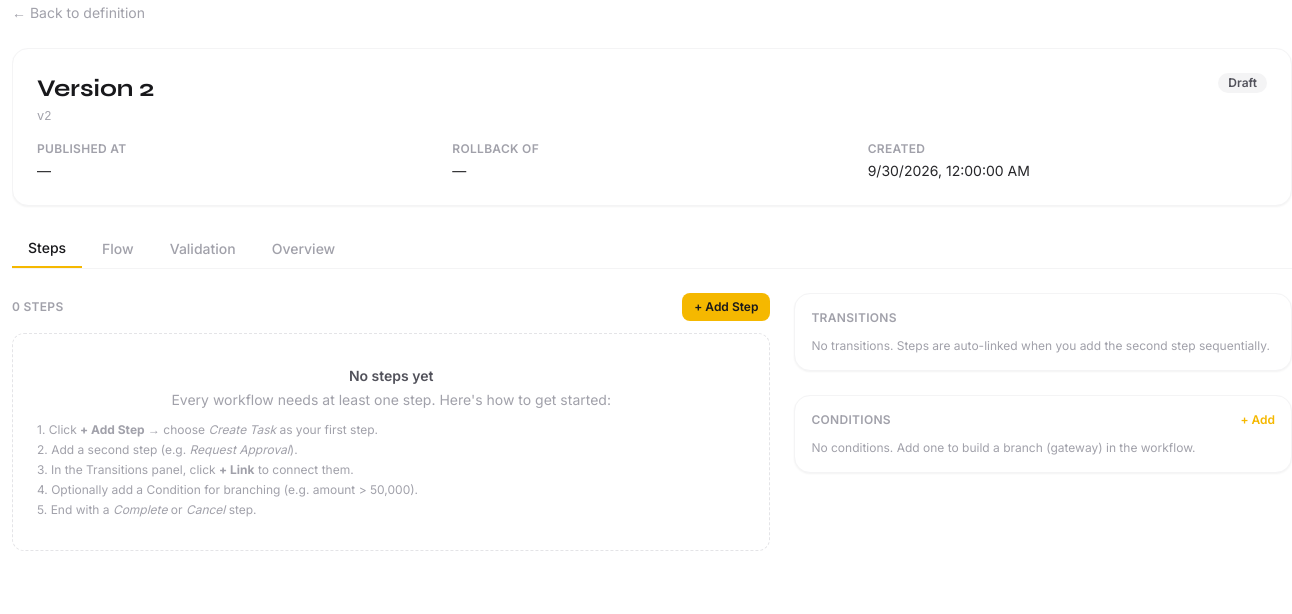
WorkflowVersionDetailPage › shows validation tab and run validation button for draft version
Expected: the heading "Version 2" is shown, [37,73,154,105]
Click the button "validation" at x=203, y=249, box [154,230,252,268]
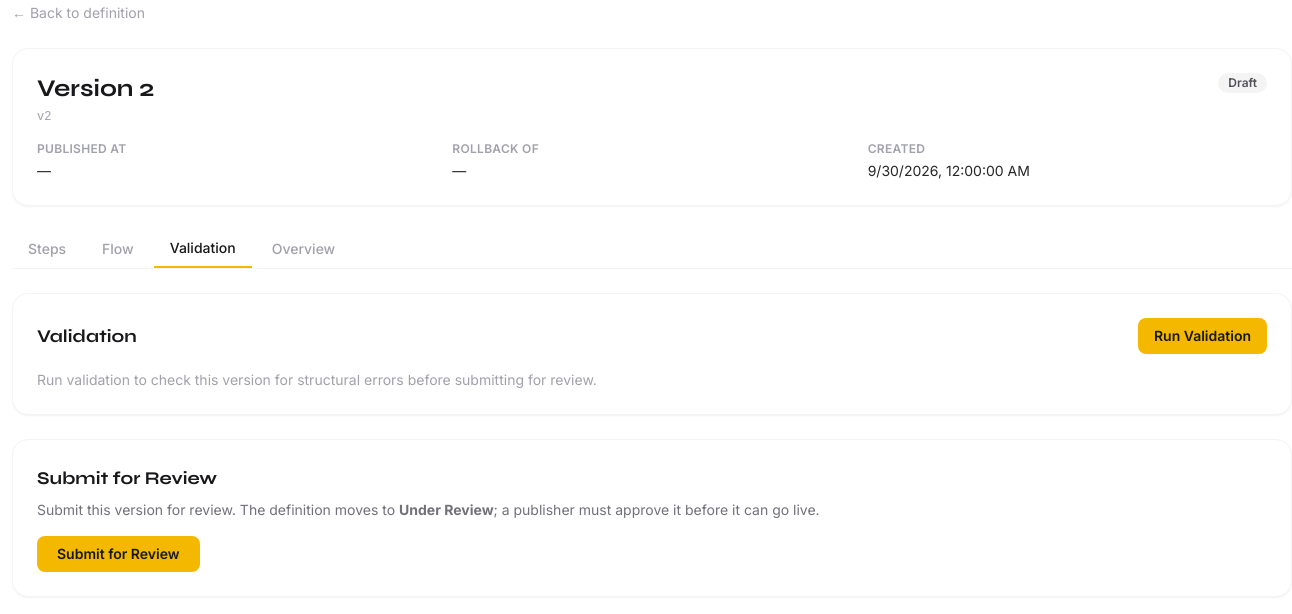
Expected: the button "Run Validation" is shown, [1138,318,1267,354]
